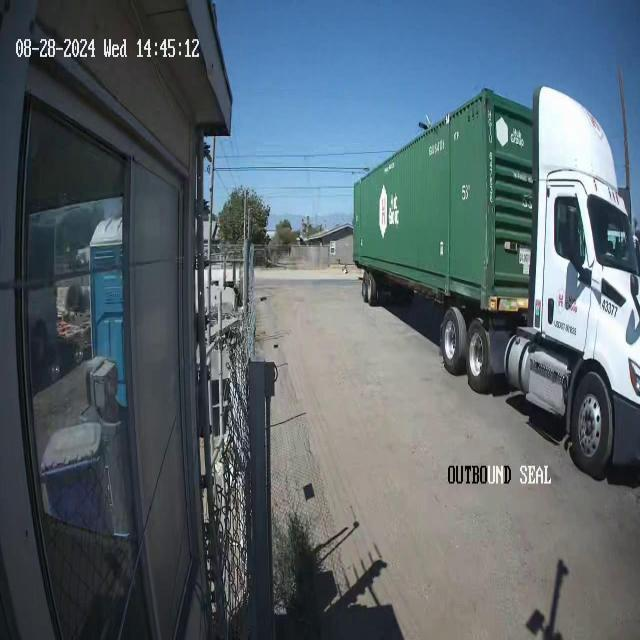TRUCK_CONTAINER: (351, 80, 639, 480)
